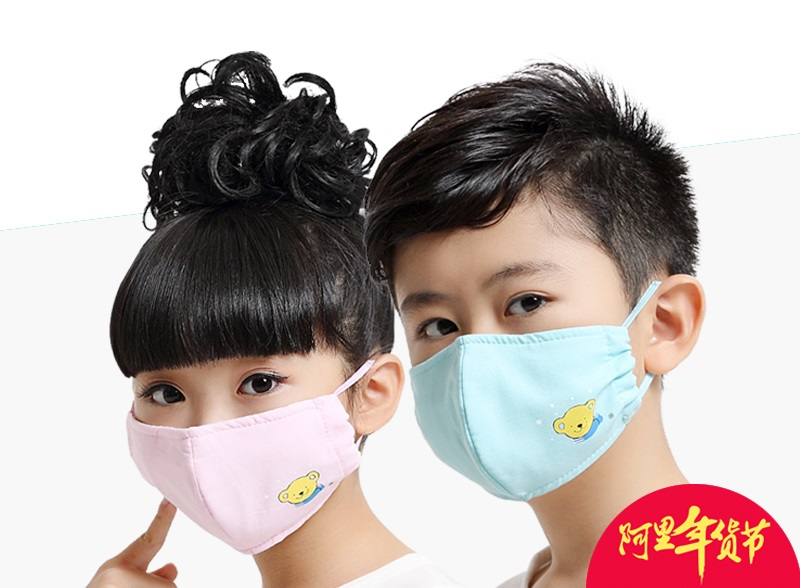face_mask: (400, 229, 635, 501), (126, 344, 360, 562)
